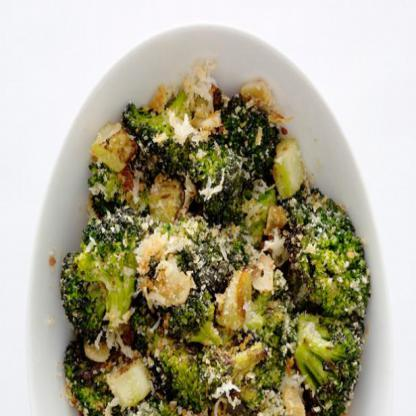broccoli: (54, 58, 372, 416)
